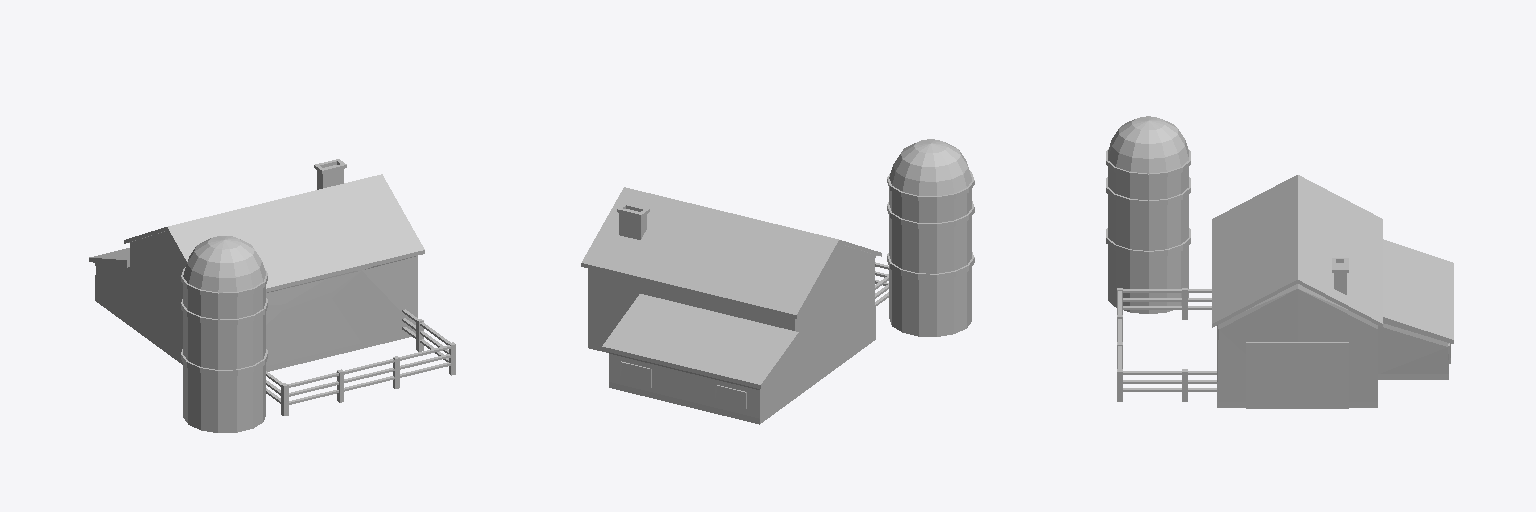
Rendered from Farm.obj.
The picture shows the model from 3 angles: view 1: azimuth 30°, elevation 25°; view 2: azimuth 150°, elevation 25°; view 3: azimuth 270°, elevation 25°; orthographic projection.
Parts seen in each view (by area): view 1: 1267_Farm; view 2: 1267_Farm; view 3: 1267_Farm.
Part boxes in pixels (x1,y1,x2,y2): 1267_Farm: (89,159,455,432); 1267_Farm: (581,139,974,424); 1267_Farm: (1106,116,1453,408).
Size of the model in its own units: 19.35 by 12.06 by 21.61.